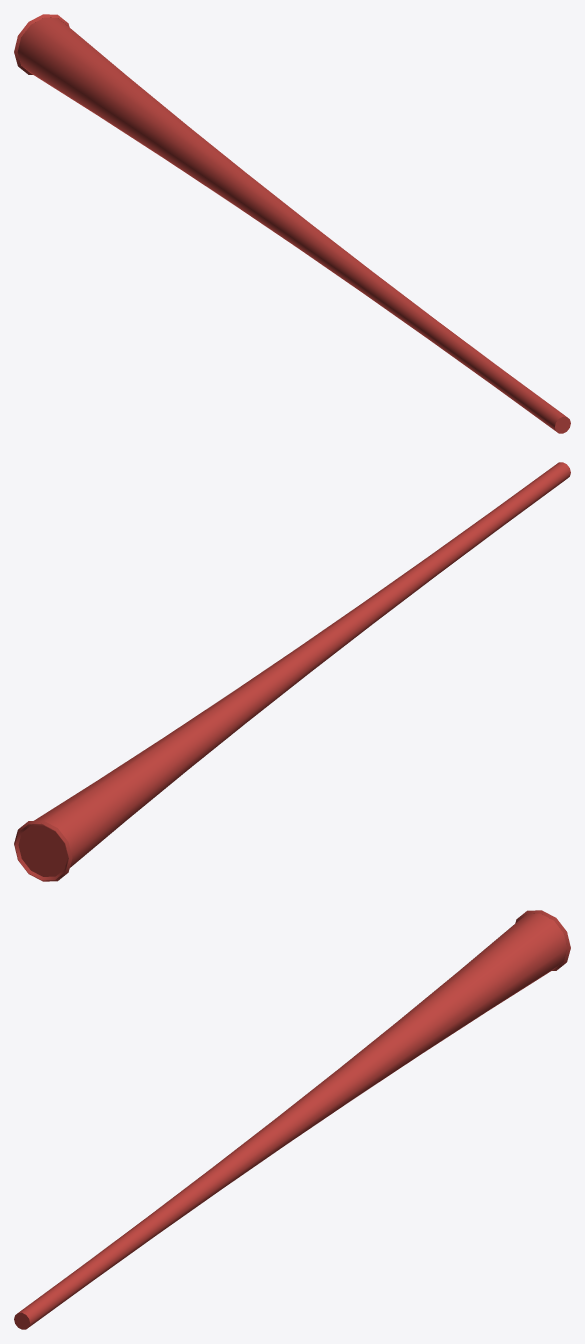
Rendered from trumpet.glb.
3 renders of one model, top to bottom at view 1: azimuth 30°, elevation 25°; view 2: azimuth 150°, elevation 25°; view 3: azimuth 330°, elevation 25°, orthographic.
Visible parts, largest first — view 1: lod0; view 2: lod0; view 3: lod0.
Part boxes in pixels (x1,y1,x2,y2): lod0: (14, 14, 570, 433); lod0: (14, 462, 570, 881); lod0: (14, 910, 570, 1329).
Size of what is drawn, in the model's own units: 0.065 by 0.065 by 1.
